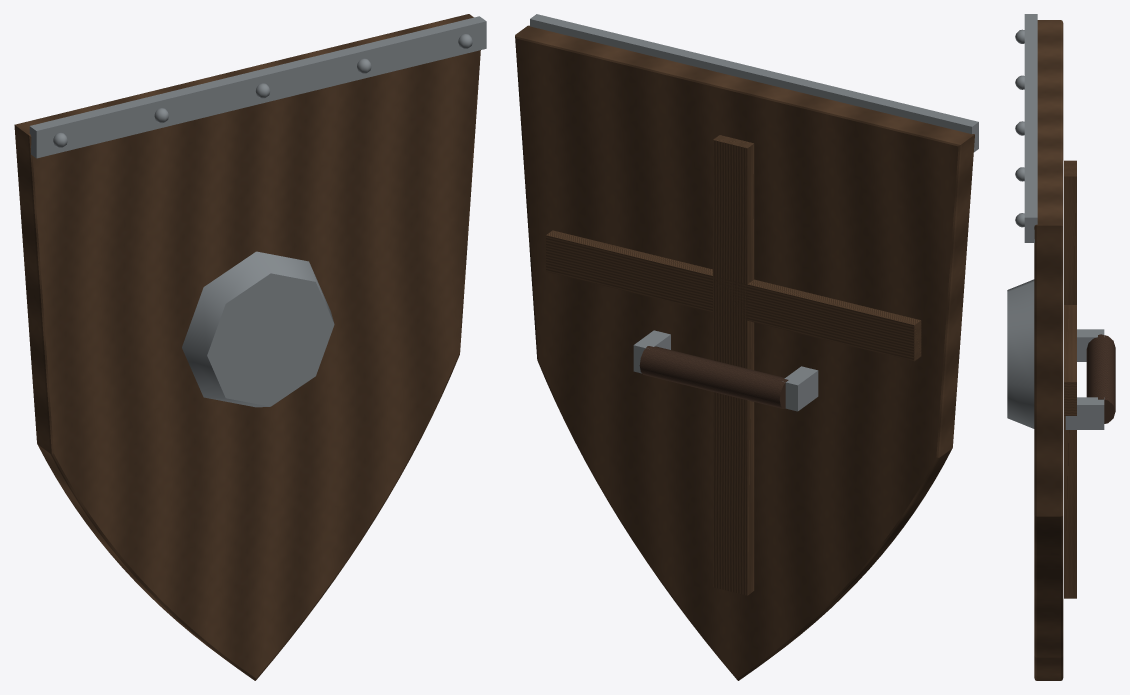
Rendered from corealm_shield_2.glb.
The picture shows the model from 3 angles, left to right: view 1: azimuth 30°, elevation 25°; view 2: azimuth 150°, elevation 25°; view 3: azimuth 270°, elevation 25°; orthographic projection. The views are drawn at different scales.
Parts seen in each view (by area): view 1: corealm-weapon-wood, corealm-weapon-metal; view 2: corealm-weapon-wood, corealm-weapon-metal, corealm-weapon-leather; view 3: corealm-weapon-wood, corealm-weapon-metal, corealm-weapon-leather.
Boxes of the visible parts, x1=… form: corealm-weapon-wood: x1=14, y1=14, x2=480, y2=680; corealm-weapon-metal: x1=29, y1=16, x2=486, y2=407; corealm-weapon-wood: x1=515, y1=25, x2=974, y2=680; corealm-weapon-metal: x1=530, y1=14, x2=978, y2=411; corealm-weapon-leather: x1=639, y1=346, x2=788, y2=408; corealm-weapon-wood: x1=1034, y1=20, x2=1076, y2=680; corealm-weapon-metal: x1=1007, y1=14, x2=1104, y2=429; corealm-weapon-leather: x1=1086, y1=334, x2=1115, y2=423.
Size of the model in its own units: 0.6062 by 0.7766 by 0.1345.
Materials: 3 (2 with a texture image).
